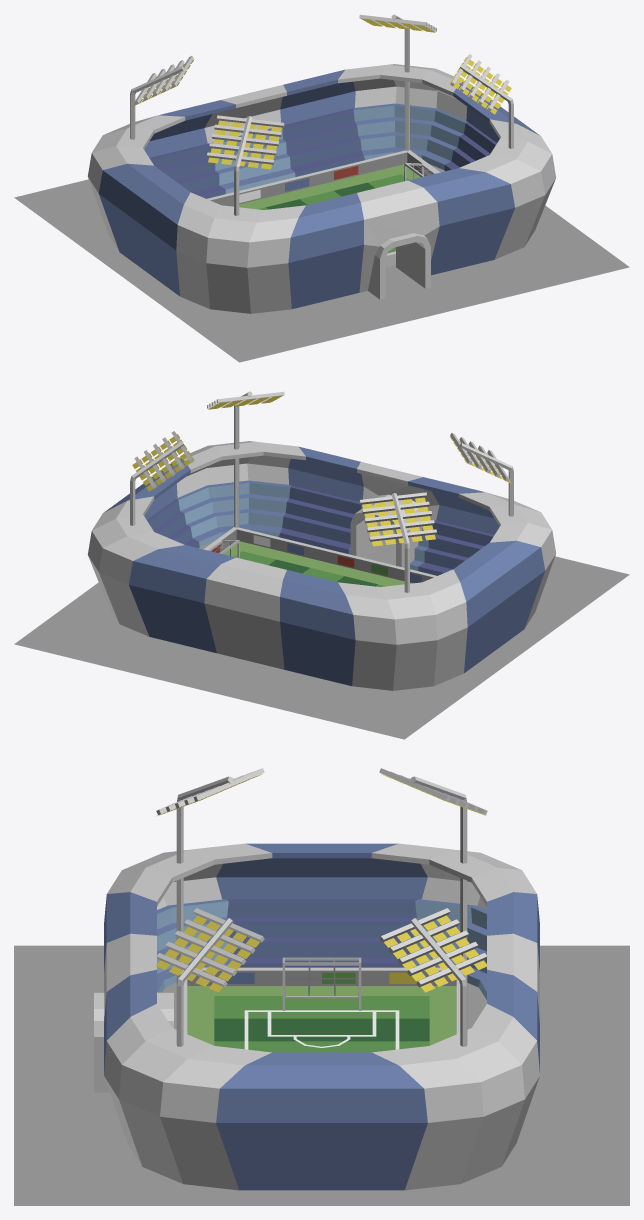
File: stadium_004.glb
The picture shows the model from 3 angles, top to bottom: view 1: azimuth 30°, elevation 25°; view 2: azimuth 150°, elevation 25°; view 3: azimuth 270°, elevation 25°; orthographic projection. The views are drawn at different scales.
Parts seen in each view (by area): view 1: stadium_004; view 2: stadium_004; view 3: stadium_004.
Part boxes in pixels (<box>): stadium_004: <box>14,14,629,362</box>; stadium_004: <box>14,391,629,739</box>; stadium_004: <box>14,768,629,1205</box>.
Bounding box in the file's own units: 16 × 6.79 × 16.
1 material, 1 textured.
